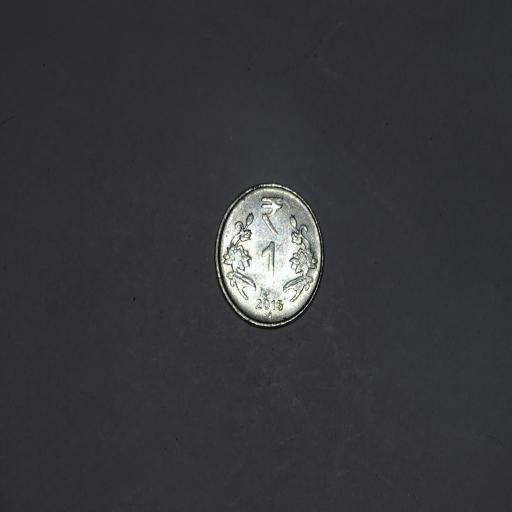rupee1: (215, 178, 326, 332)
